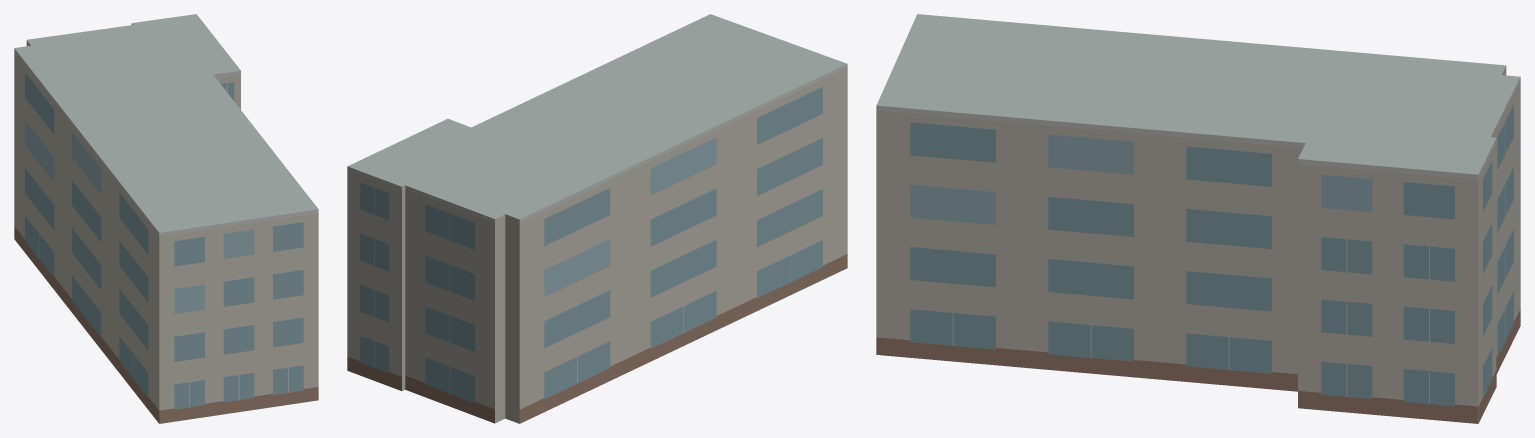
Rendered from survey-upis-32645669.glb.
3 renders of one model, left to right at view 1: azimuth 30°, elevation 25°; view 2: azimuth 150°, elevation 25°; view 3: azimuth 270°, elevation 25°, orthographic. The views are drawn at different scales.
Parts seen in each view (by area): view 1: survey-upis-32645669.tmp; view 2: survey-upis-32645669.tmp; view 3: survey-upis-32645669.tmp.
Boxes of the visible parts, x1,y1,x2,y2 form: survey-upis-32645669.tmp: [14, 14, 318, 423]; survey-upis-32645669.tmp: [347, 14, 847, 423]; survey-upis-32645669.tmp: [876, 14, 1520, 423].
Bounding box in the file's own units: 17.01 × 12.3 × 28.82.
